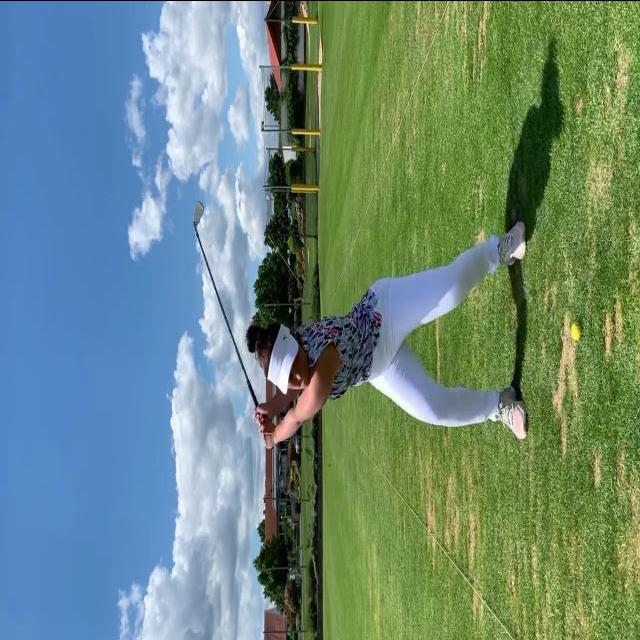golf ball: (572, 320, 581, 340)
golf club-handle: (192, 195, 276, 449)
golf club-head: (193, 200, 204, 225)
